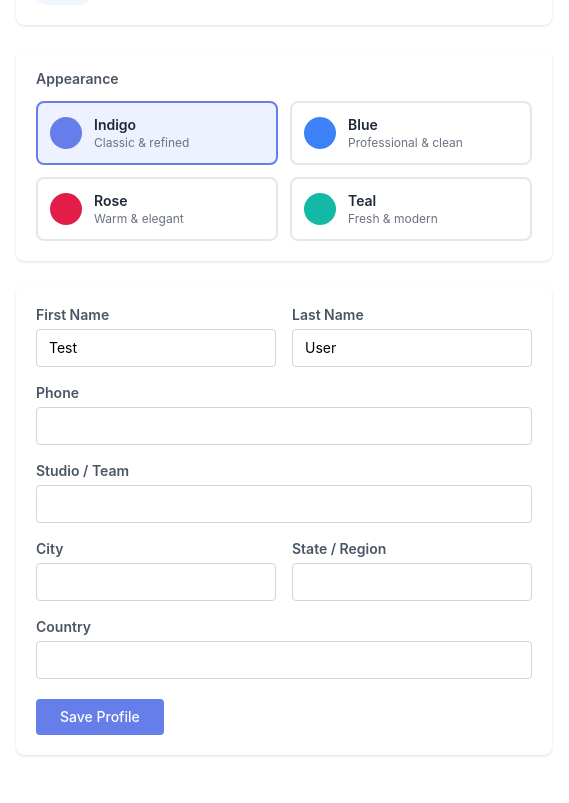
Test: ProfilePage › should display an error message when save fails
(page scrolled)
Click the button "Save Profile": (100, 717) left=36, top=699, right=164, bottom=735
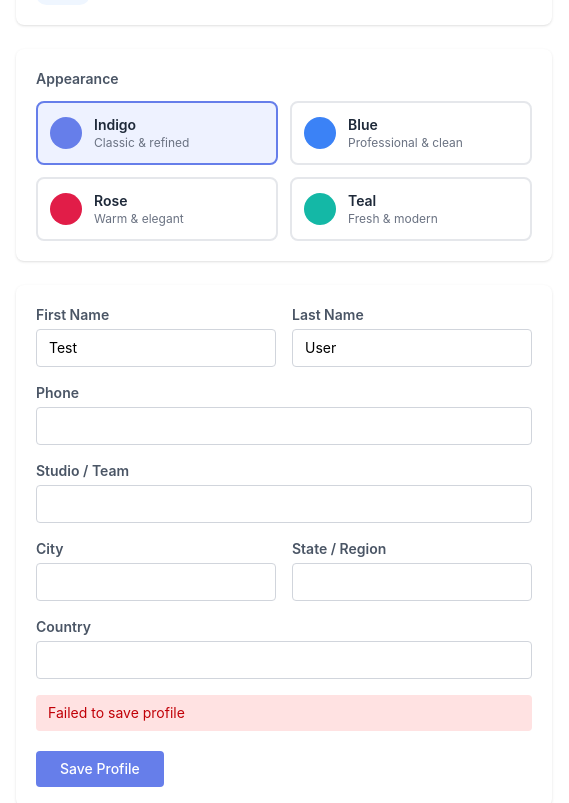
Expected: the text "Failed to save profile" is shown, left=36, top=695, right=532, bottom=731
